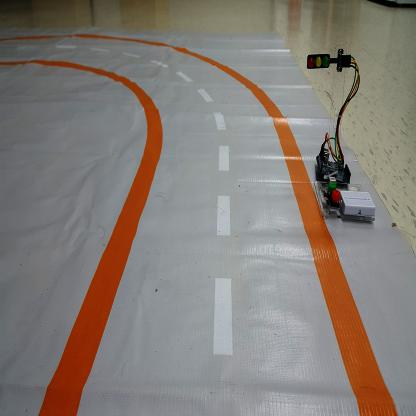traffic-light: (306, 52, 330, 70)
